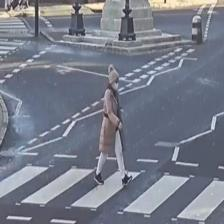person: (94, 65, 132, 184)
